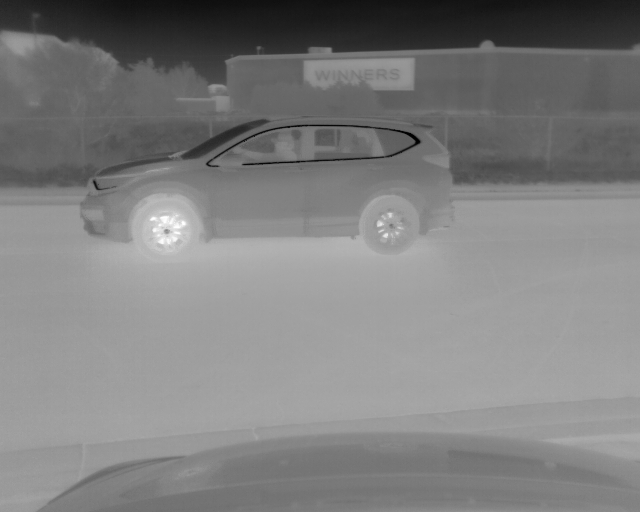car: (83, 116, 457, 260)
